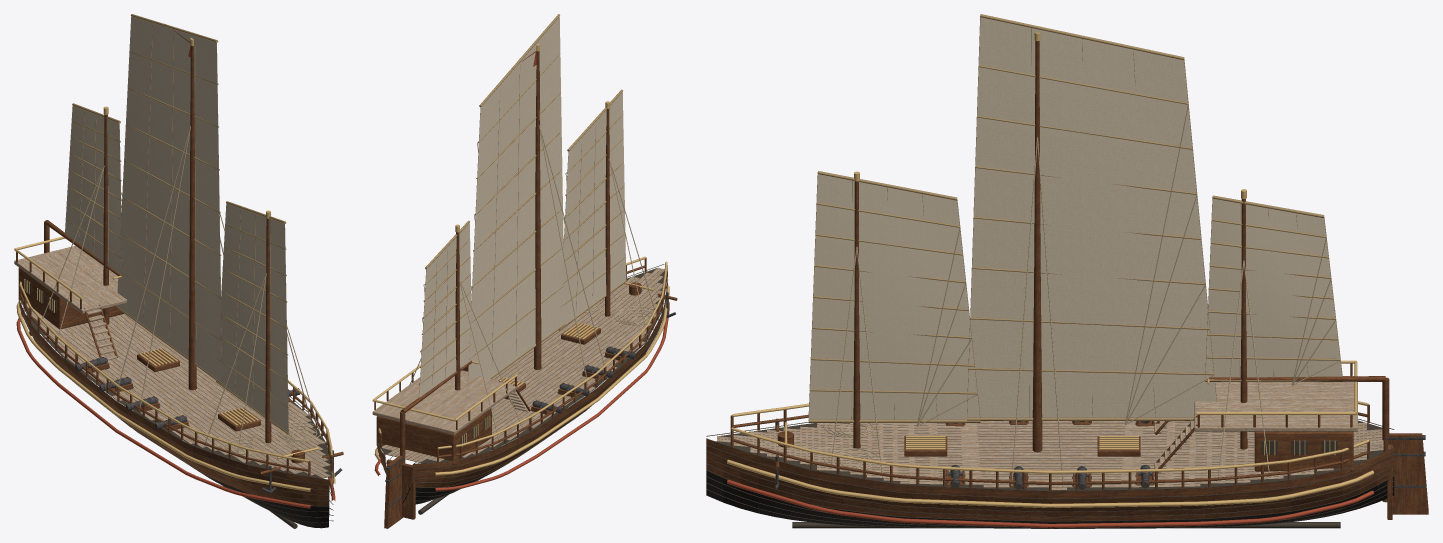
Rendered from fuchuan-lod0.glb.
3 views of the same model, side by side, from view 1: azimuth 30°, elevation 25°; view 2: azimuth 150°, elevation 25°; view 3: azimuth 270°, elevation 25° (orthographic). The views are drawn at different scales.
Visible parts, largest first — view 1: sail_1, deck, sail_0, hull, sail_2, deck_fittings, bulwark_rails, mast_timber_1, sterncastle, mast_timber_0, rigging_1, rigging_0 (+4 smaller); view 2: sail_1, deck, sail_0, hull, sail_2, sterncastle, deck_fittings, bulwark_rails, mast_timber_1, rudder_blade, mast_timber_0, rigging_1 (+4 smaller); view 3: sail_1, sail_0, hull, deck, sail_2, bulwark_rails, deck_fittings, mast_timber_1, sterncastle, rudder_blade, mast_timber_0, mast_timber_2 (+1 smaller).
Part boxes in pixels (x1,y1,x2,y2): sail_1: (116, 14, 222, 384); deck: (14, 246, 331, 478); sail_0: (216, 201, 289, 435); hull: (16, 296, 335, 528); sail_2: (65, 103, 122, 278); deck_fittings: (14, 236, 343, 493); bulwark_rails: (19, 281, 332, 476); mast_timber_1: (188, 45, 196, 390); sterncastle: (18, 267, 124, 329); mast_timber_0: (265, 218, 271, 443); rigging_1: (116, 126, 224, 410); rigging_0: (204, 273, 321, 457); sail_1: (467, 14, 565, 381); deck: (372, 267, 664, 463); sail_0: (558, 89, 626, 330); hull: (374, 264, 669, 519); sail_2: (419, 220, 472, 397); sterncastle: (376, 407, 491, 464); deck_fittings: (372, 282, 677, 446); bulwark_rails: (378, 256, 667, 462); mast_timber_1: (534, 51, 541, 369); rudder_blade: (384, 455, 403, 528); mast_timber_0: (605, 109, 610, 316); rigging_1: (539, 125, 604, 389); sail_1: (967, 14, 1216, 424); sail_0: (808, 171, 980, 426); hull: (706, 419, 1394, 528); deck: (717, 376, 1383, 490); sail_2: (1205, 195, 1342, 385); bulwark_rails: (730, 401, 1369, 490); deck_fittings: (775, 360, 1357, 489); mast_timber_1: (1032, 41, 1042, 452); sterncastle: (1254, 431, 1353, 471); rudder_blade: (1383, 433, 1428, 514); mast_timber_0: (853, 181, 860, 448); mast_timber_2: (1240, 199, 1247, 449).
Bounding box in the file's own units: 9.53 × 26.38 × 33.61.
12 materials, 6 textured.
